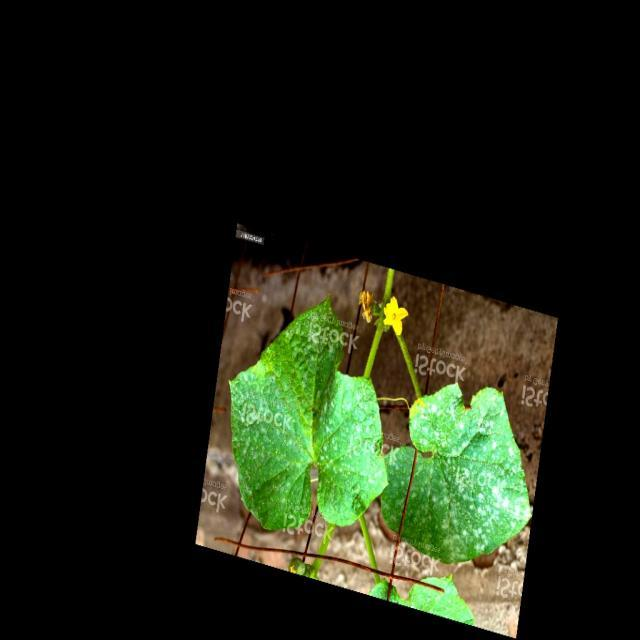Leaf_Mold: (228, 292, 390, 535), (390, 380, 522, 565)
